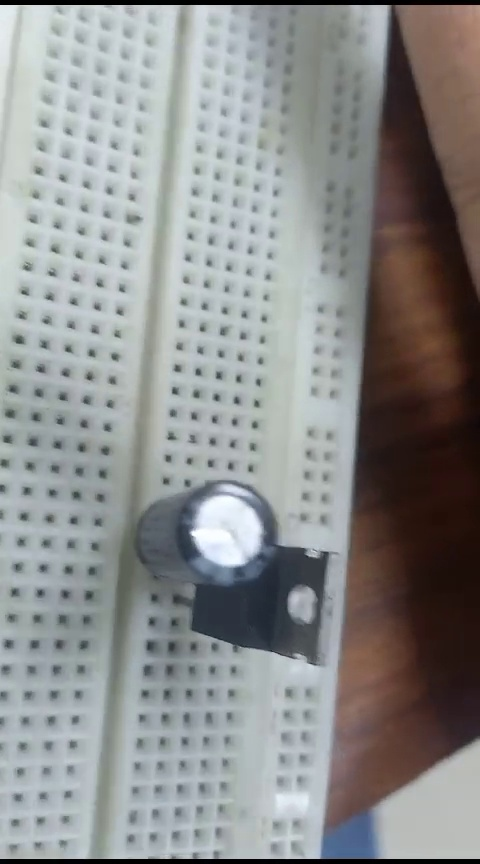capacitor: (134, 472, 280, 592)
voltage regulator: (207, 537, 334, 667)
